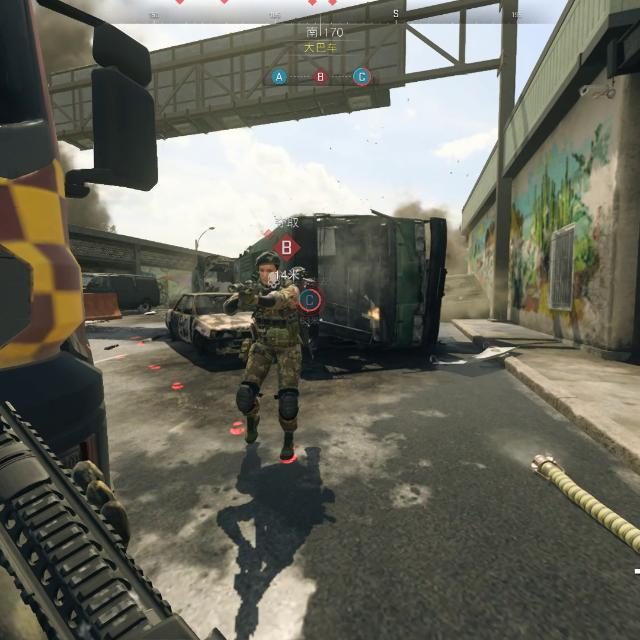MW2_body: (226, 252, 303, 458)
